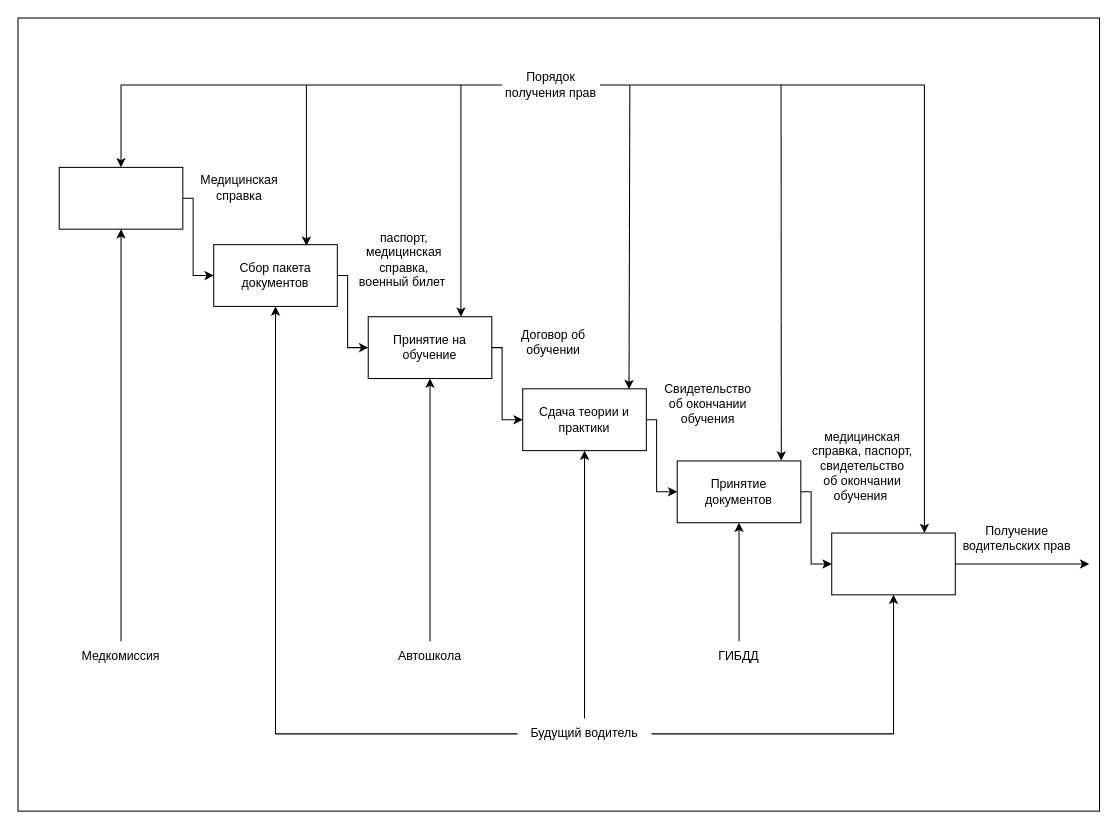
The diagram is 1118 pixels wide and 829 high, and some of its shapes have lost their labels. Each missing label, with the box of its shape:
Проведение медицинского осмотра водителя: (58, 166, 183, 229)
Сдача экзамена: (831, 532, 955, 595)
